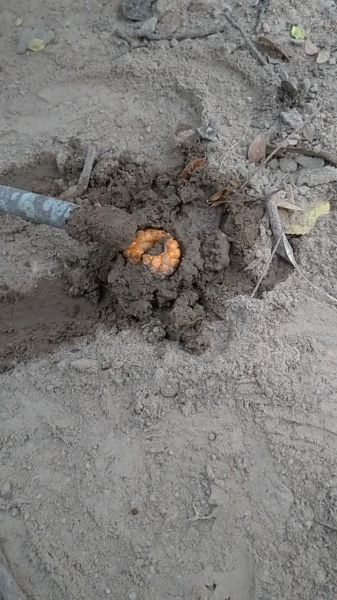eggs: (120, 220, 185, 282)
